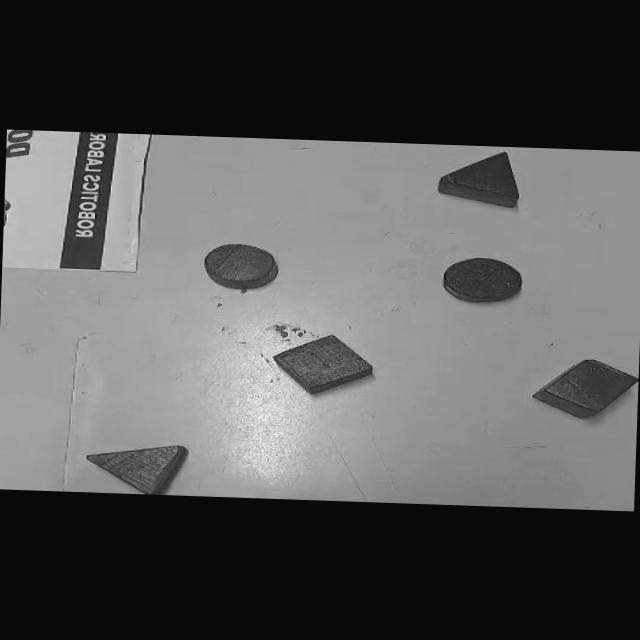bcircle: (439, 256, 524, 304)
bcube: (268, 330, 376, 397)
btriangle: (436, 150, 522, 208)
rcircle: (202, 242, 278, 290)
rcube: (531, 356, 639, 422)
rtriangle: (84, 440, 187, 494)
